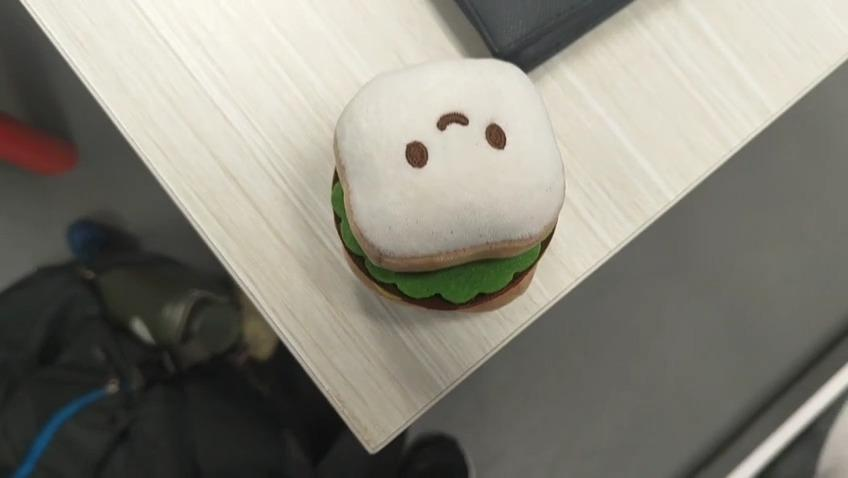objects: (332, 53, 566, 312)
